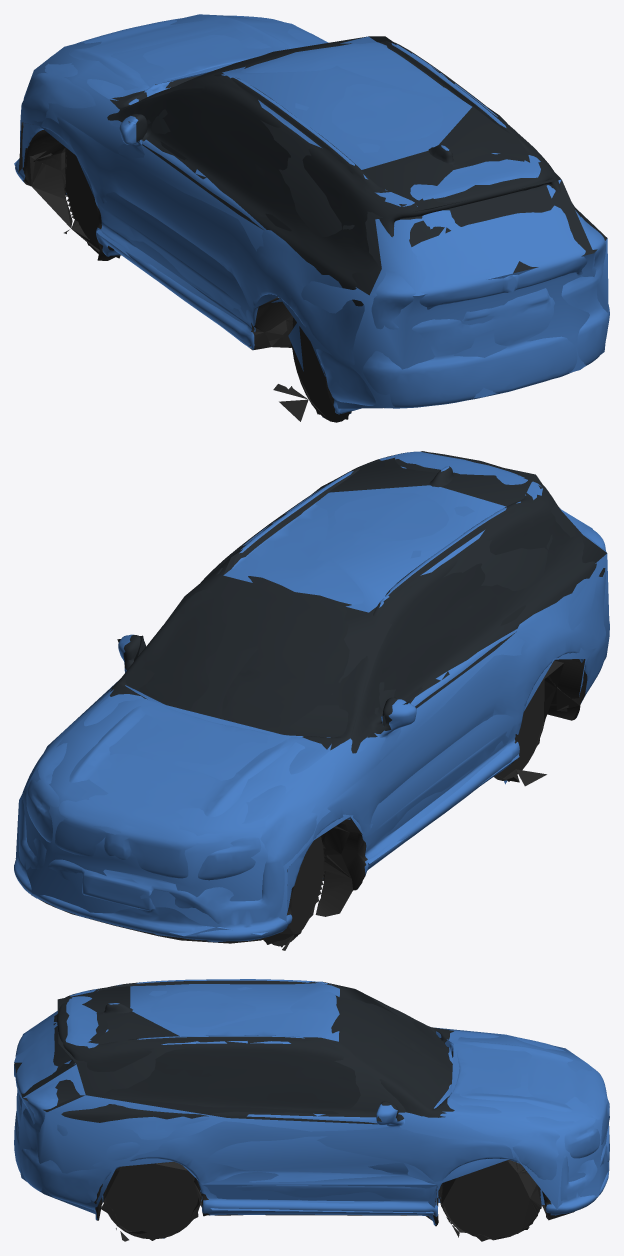
Rendered from volvo-ex90.glb.
The picture shows the model from 3 angles, top to bottom: view 1: azimuth 30°, elevation 25°; view 2: azimuth 150°, elevation 25°; view 3: azimuth 270°, elevation 25°; orthographic projection. The views are drawn at different scales.
Visible parts, largest first — view 1: body, far; view 2: body, far; view 3: body, far.
Boxes of the visible parts, bbox=[...] form: body: bbox=[15, 15, 609, 422]; far: bbox=[14, 14, 608, 419]; body: bbox=[14, 451, 609, 950]; far: bbox=[15, 451, 609, 950]; body: bbox=[14, 979, 609, 1241]; far: bbox=[14, 981, 609, 1241].
Size of the model in its own units: 2.22 by 1.91 by 5.06.
